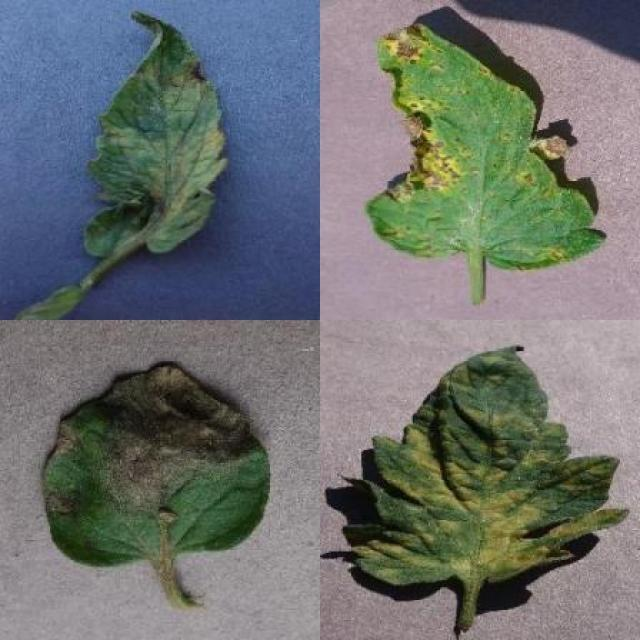Late Blight: (41, 356, 270, 571)
Leaf Mold: (339, 344, 631, 586), (82, 10, 228, 253)
Septoria: (366, 24, 608, 269)
